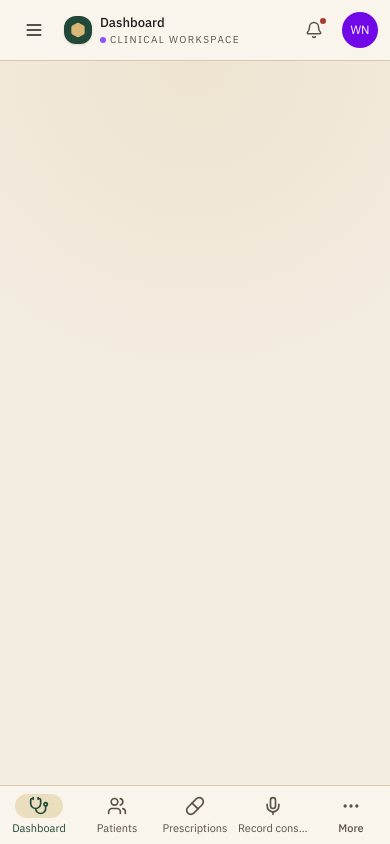
Test: Layout mobile header › opens the drawer when hamburger is clicked
Click the button named "open navigation": (34, 30) x1=12 y1=8 x2=56 y2=52
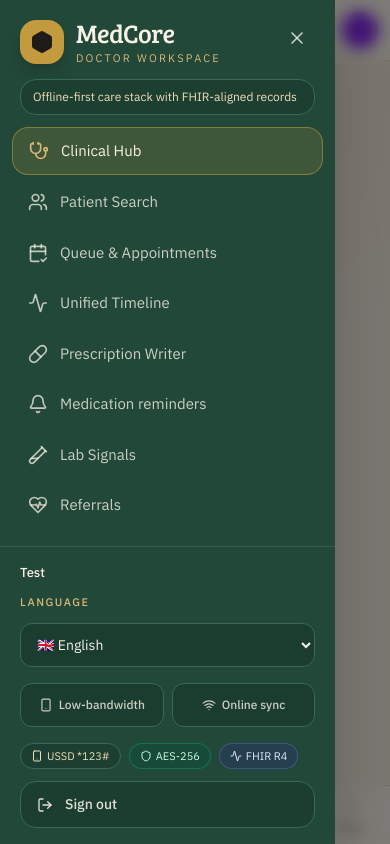
Expected: the dialog named "navigation" is shown
